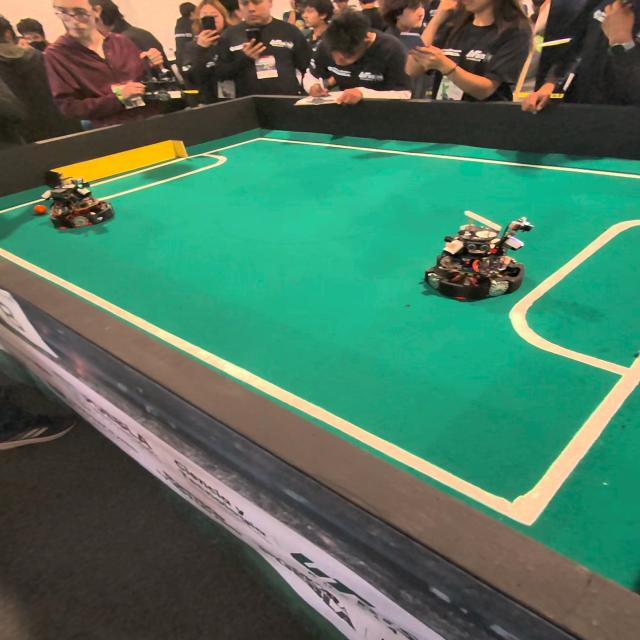Robot: (421, 200, 532, 311)
